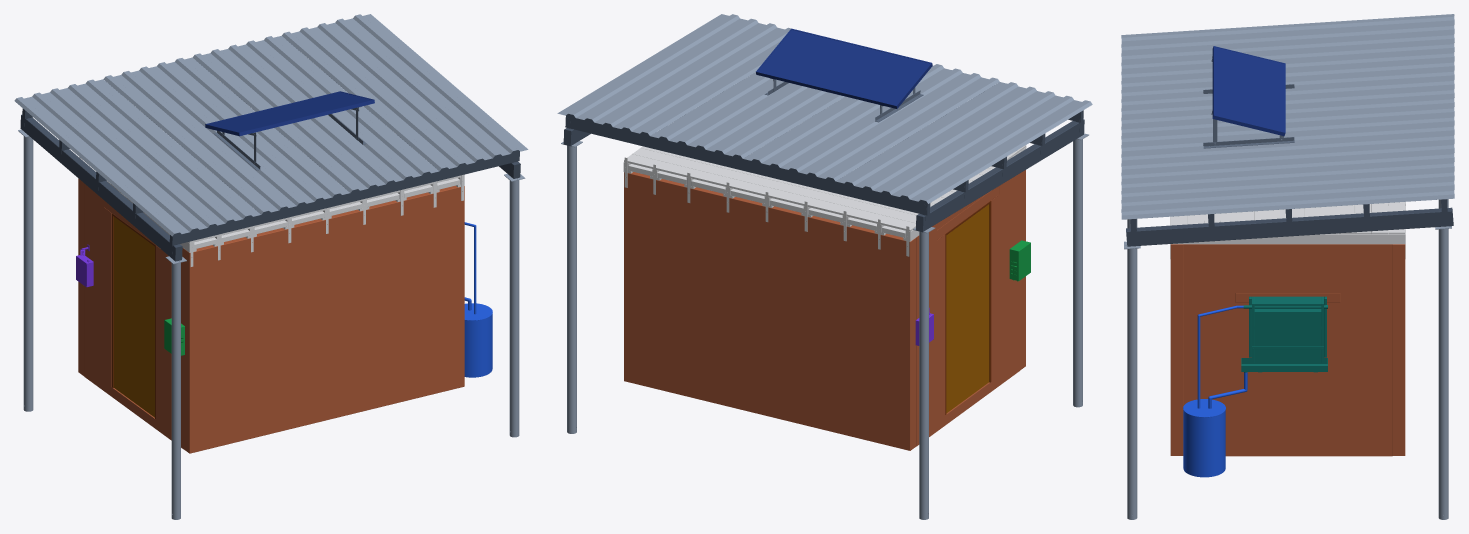
3 views of the same model, side by side, from view 1: azimuth 30°, elevation 25°; view 2: azimuth 150°, elevation 25°; view 3: azimuth 270°, elevation 25° (orthographic). The views are drawn at different scales.
Visible parts, largest first — view 1: Shade roof: sheets, posts and footings (×7), Double brick walls, floor and lintels (×3), Insulated door, Roof beams and purlins (×2), Solar panel, 150 W (×2), Sump drum, 12 V pump and hoses, Insulated ceiling; view 2: Double brick walls, floor and lintels (×4), Shade roof: sheets, posts and footings (×7), Solar panel, 150 W (×2), Roof beams and purlins (×2), Insulated door, Insulated ceiling (×3); view 3: Shade roof: sheets, posts and footings (×6), Double brick walls, floor and lintels (×4), Roof beams and purlins, Solar panel, 150 W (×2), Cellulose pad, frame, header, gutter (×3), Sump drum, 12 V pump and hoses (×3), Insulated ceiling, Panel mounting frames.
Part boxes in pixels (x1,y1,x2,y2): Shade roof: sheets, posts and footings (×7): (14,14,528,519); Double brick walls, floor and lintels (×3): (78,178,464,453); Insulated door: (113,217,154,417); Roof beams and purlins (×2): (20,114,519,261); Solar panel, 150 W (×2): (205,91,374,136); Sump drum, 12 V pump and hoses: (464,314,492,377); Insulated ceiling: (188,174,464,243); Double brick walls, floor and lintels (×4): (624,170,1025,450); Shade roof: sheets, posts and footings (×7): (557,14,1092,519); Solar panel, 150 W (×2): (756,28,932,108); Roof beams and purlins (×2): (565,114,1084,232); Insulated door: (946,204,989,413); Insulated ceiling (×3): (624,146,918,231); Shade roof: sheets, posts and footings (×6): (1121,14,1454,519); Double brick walls, floor and lintels (×4): (1170,244,1405,456); Roof beams and purlins: (1126,207,1453,246); Solar panel, 150 W (×2): (1212,46,1285,136); Cellulose pad, frame, header, gutter (×3): (1241,296,1327,372); Sump drum, 12 V pump and hoses (×3): (1183,305,1243,477); Insulated ceiling: (1171,232,1405,244); Panel mounting frames: (1203,137,1294,148).
Size of the model in its own units: 3.91 by 3.47 by 2.99.
